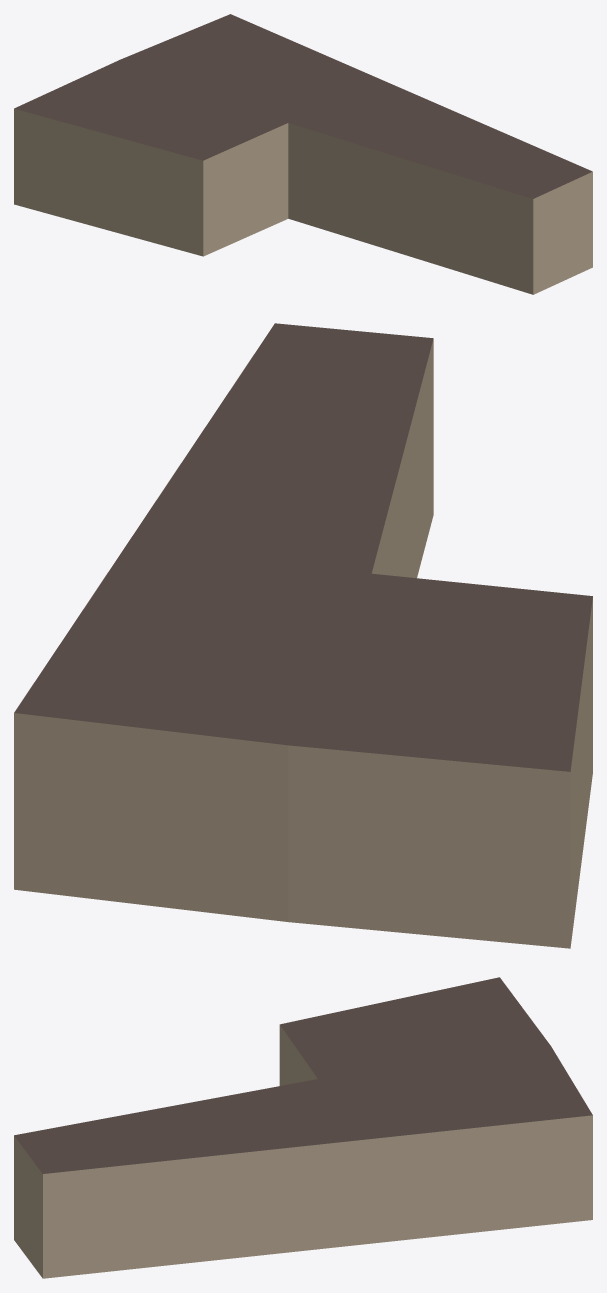
The picture shows the model from 3 angles, top to bottom: view 1: azimuth 30°, elevation 25°; view 2: azimuth 150°, elevation 25°; view 3: azimuth 270°, elevation 25°; orthographic projection. The views are drawn at different scales.
Visible parts, largest first — view 1: HP-w1512480746; view 2: HP-w1512480746; view 3: HP-w1512480746.
Boxes of the visible parts, left/top/right/bottom form: HP-w1512480746: left=14, top=14, right=592, bottom=294; HP-w1512480746: left=14, top=323, right=592, bottom=948; HP-w1512480746: left=14, top=977, right=592, bottom=1278.
Size of the model in its own units: 36.3 by 9 by 45.11.
